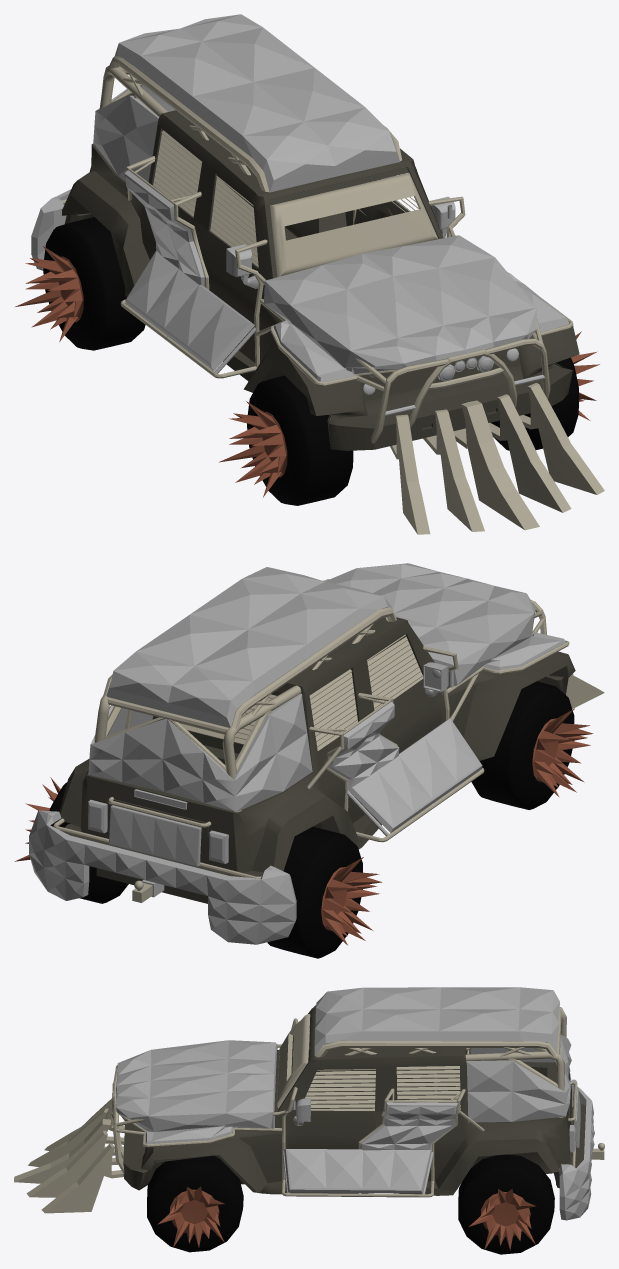
File: Jeep.fbx
The picture shows the model from 3 angles, top to bottom: view 1: azimuth 30°, elevation 25°; view 2: azimuth 150°, elevation 25°; view 3: azimuth 270°, elevation 25°; orthographic projection. The views are drawn at different scales.
Parts seen in each view (by area): view 1: Jeep, Armor_Panel_1_Geo, Armor_Panel_4_Geo, Grill, Armor_Panel_3_Geo, Wind_screen, polySurface428, polySurface426, pCube13, Armor_Panel_5_Geo, Spikes_4_Geo, Spikes_3_Geo (+2 smaller); view 2: Jeep, Armor_Panel_4_Geo, Armor_Panel_5_Geo, Armor_Panel_1_Geo, Back_Panel, Armor_Panel_3_Geo, polySurface428, polySurface426, pCube13, Armor_Panel_6_Geo, Spikes_4_Geo, Spikes_3_Geo (+3 smaller); view 3: Jeep, Armor_Panel_1_Geo, Armor_Panel_4_Geo, Armor_Panel_2_Geo, Grill, Armor_Panel_5_Geo, polySurface424, polySurface422, pCube13, Back_Panel, Spikes_1_Geo, Spikes_2_Geo (+1 smaller).
Part boxes in pixels (box(x1,y1,x2,y2)): Jeep: box(61, 55, 579, 450); Armor_Panel_1_Geo: box(264, 235, 569, 382); Armor_Panel_4_Geo: box(115, 14, 400, 192); Grill: box(390, 383, 604, 534); Armor_Panel_3_Geo: box(124, 170, 254, 370); Wind_screen: box(270, 173, 438, 277); polySurface428: box(247, 375, 353, 505); polySurface426: box(43, 217, 145, 350); pCube13: box(153, 130, 418, 266); Armor_Panel_5_Geo: box(93, 85, 175, 184); Spikes_4_Geo: box(15, 246, 83, 342); Spikes_3_Geo: box(219, 401, 287, 497); Jeep: box(53, 580, 575, 903); Armor_Panel_4_Geo: box(106, 567, 392, 727); Armor_Panel_5_Geo: box(88, 693, 312, 811); Armor_Panel_1_Geo: box(324, 563, 565, 686); Back_Panel: box(29, 810, 296, 944); Armor_Panel_3_Geo: box(328, 702, 482, 832); polySurface428: box(471, 681, 574, 809); polySurface426: box(267, 826, 362, 958); pCube13: box(309, 634, 423, 750); Armor_Panel_6_Geo: box(109, 805, 201, 866); Spikes_4_Geo: box(321, 857, 381, 945); Spikes_3_Geo: box(532, 708, 593, 797); Jeep: box(111, 1005, 604, 1197); Armor_Panel_1_Geo: box(116, 1040, 276, 1144); Armor_Panel_4_Geo: box(314, 987, 559, 1055); Armor_Panel_2_Geo: box(284, 1102, 457, 1193); Grill: box(14, 1098, 124, 1213); Armor_Panel_5_Geo: box(466, 1035, 571, 1122); polySurface424: box(458, 1154, 554, 1254); polySurface422: box(147, 1155, 243, 1252); pCube13: box(305, 1029, 460, 1110); Back_Panel: box(559, 1086, 594, 1220); Spikes_1_Geo: box(157, 1186, 224, 1247); Spikes_2_Geo: box(469, 1188, 535, 1250).
Bounding box in the file's own units: 2.6 × 1.94 × 5.08.
